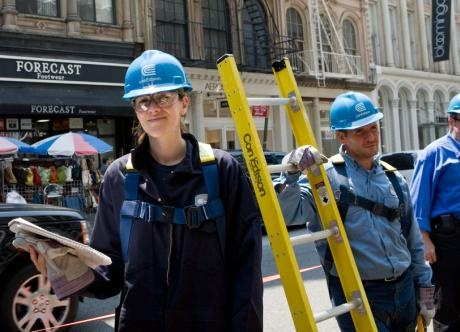blue: (122, 49, 191, 137), (329, 90, 383, 161)
